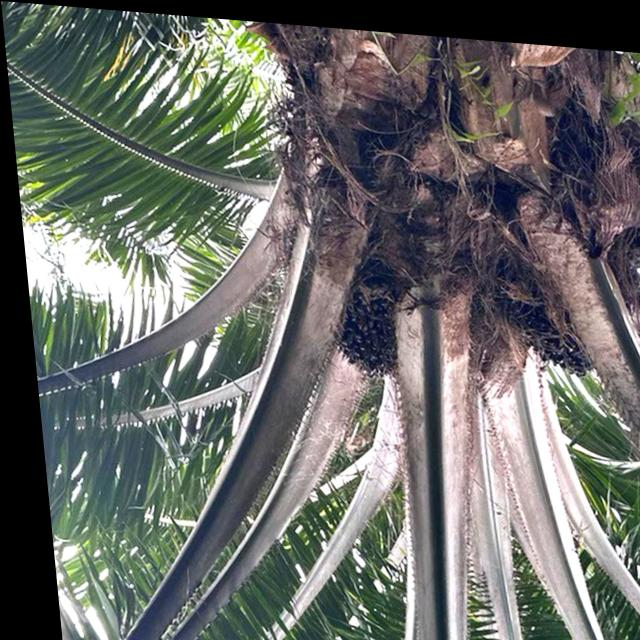unripe: (480, 254, 611, 379), (316, 259, 405, 382)
